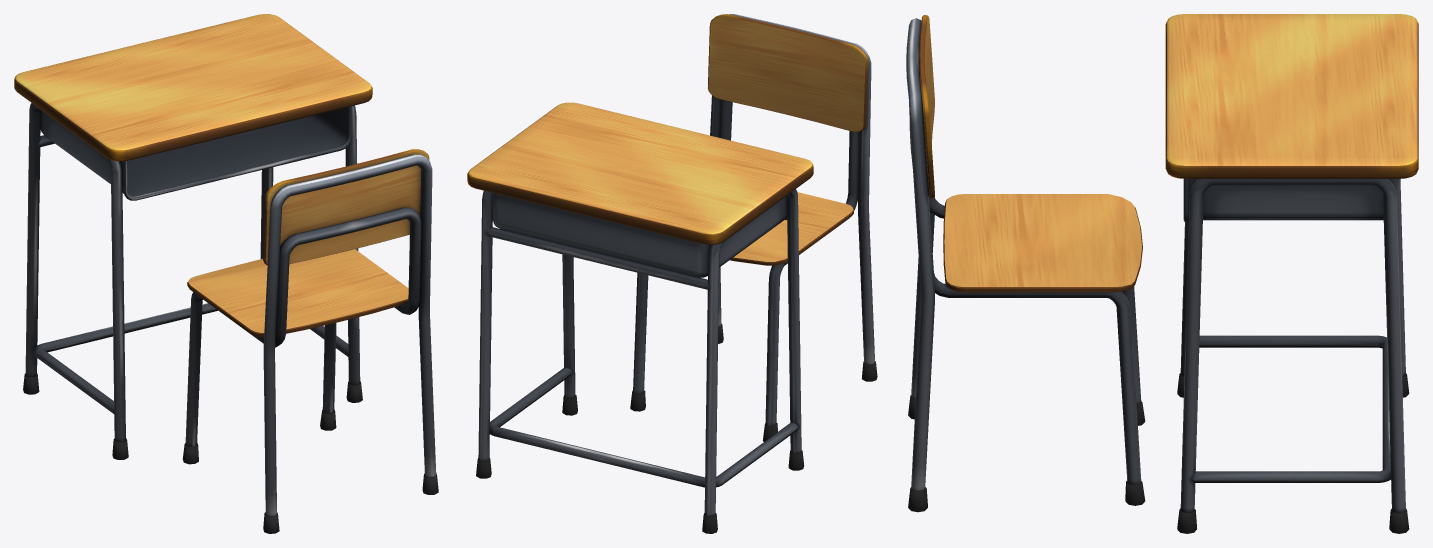
Rendered from drift-desk.glb.
3 renders of one model, left to right at view 1: azimuth 30°, elevation 25°; view 2: azimuth 150°, elevation 25°; view 3: azimuth 270°, elevation 25°, orthographic. The views are drawn at different scales.
Visible parts, largest first — view 1: japanschooldesk, japanschoolchair; view 2: japanschooldesk, japanschoolchair; view 3: japanschooldesk, japanschoolchair.
Part boxes in pixels (x1,y1,x2,y2): japanschooldesk: (14, 14, 372, 459); japanschoolchair: (182, 149, 438, 533); japanschooldesk: (467, 102, 813, 533); japanschoolchair: (630, 14, 877, 441); japanschooldesk: (1165, 14, 1418, 533); japanschoolchair: (906, 15, 1145, 512).
Size of the model in its own units: 0.9953 by 1.24 by 1.41.
1 material, 1 textured.
